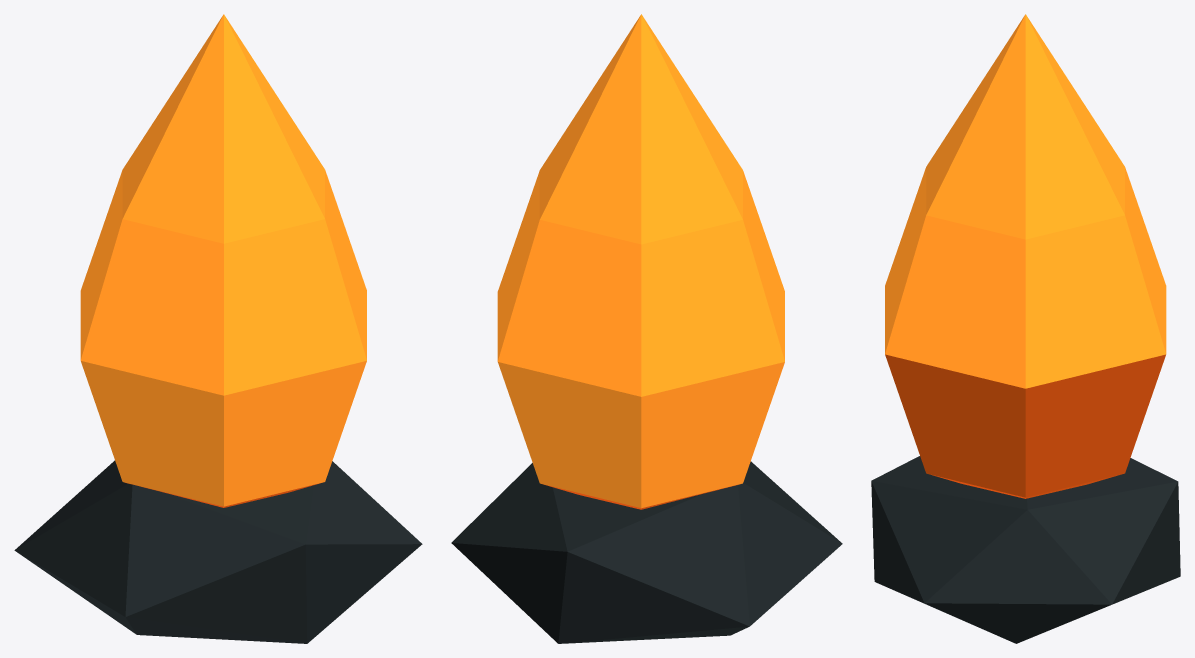
Rendered from food_amber_a.fbx.
3 renders of one model, left to right at view 1: azimuth 30°, elevation 25°; view 2: azimuth 150°, elevation 25°; view 3: azimuth 270°, elevation 25°, orthographic. The views are drawn at different scales.
Parts seen in each view (by area): view 1: food_amber_a; view 2: food_amber_a; view 3: food_amber_a.
Part boxes in pixels (x1,y1,x2,y2): food_amber_a: (14,14,422,643); food_amber_a: (451,14,842,643); food_amber_a: (871,14,1180,643).
Size of the model in its own units: 107 by 200 by 95.26.
